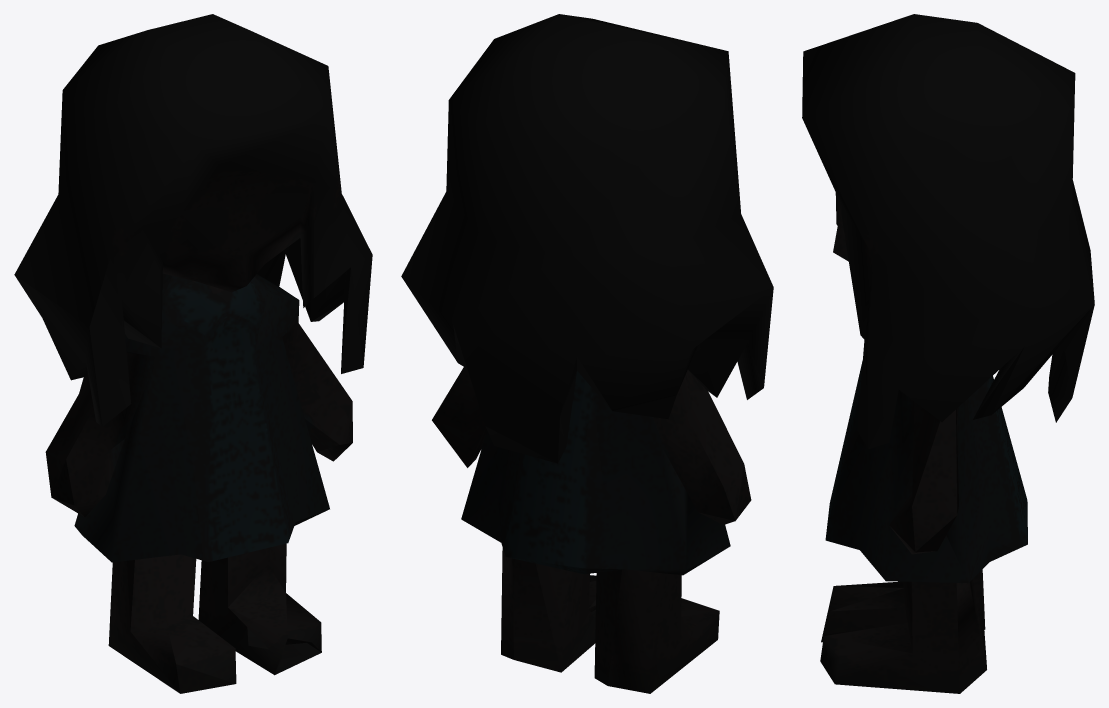
File: blue-girl.glb
The picture shows the model from 3 angles, left to right: view 1: azimuth 30°, elevation 25°; view 2: azimuth 150°, elevation 25°; view 3: azimuth 270°, elevation 25°; orthographic projection. The views are drawn at different scales.
Visible parts, largest first — view 1: geometry_0.001; view 2: geometry_0.001; view 3: geometry_0.001.
Boxes of the visible parts, bbox=[...] form: geometry_0.001: bbox=[14, 14, 372, 693]; geometry_0.001: bbox=[401, 14, 773, 693]; geometry_0.001: bbox=[802, 14, 1094, 693].
Size of the model in its own units: 0.4922 by 0.9985 by 0.4255.
Materials: 1 (1 with a texture image).
